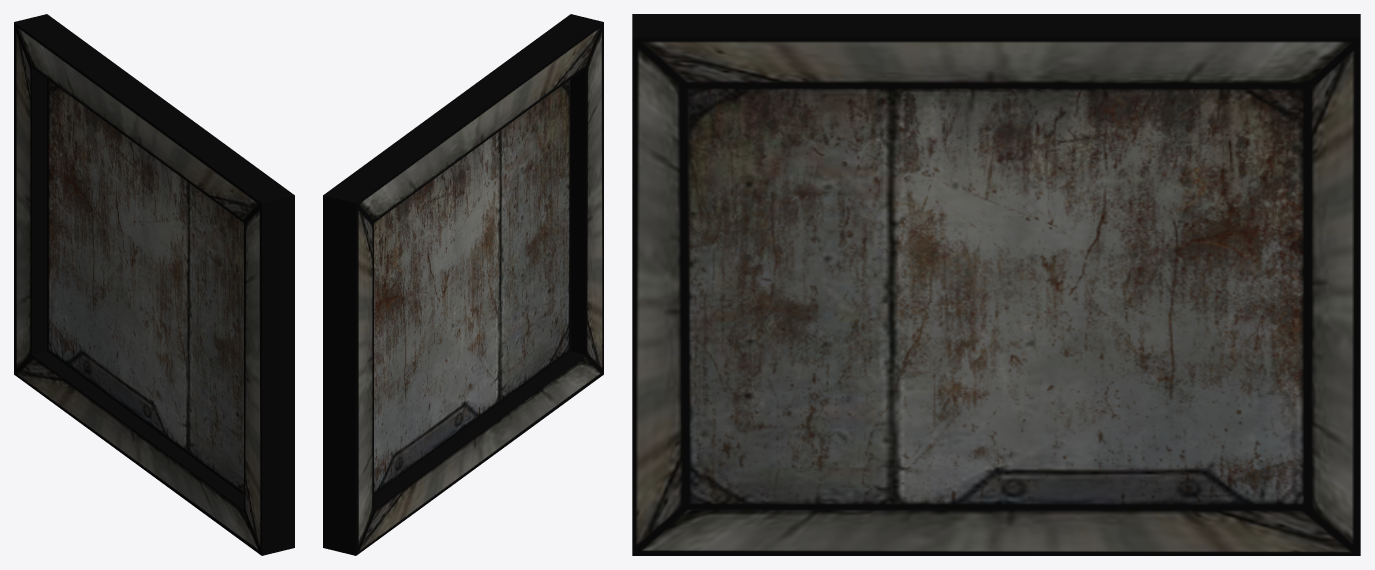
The model's file is omlaag.fbx.
3 views of the same model, side by side, from view 1: azimuth 30°, elevation 25°; view 2: azimuth 150°, elevation 25°; view 3: azimuth 270°, elevation 25° (orthographic). The views are drawn at different scales.
Parts seen in each view (by area): view 1: pCube6; view 2: pCube6; view 3: pCube6.
Part boxes in pixels (bbox=[...]): pCube6: bbox=[14, 14, 294, 555]; pCube6: bbox=[323, 14, 603, 555]; pCube6: bbox=[632, 14, 1360, 555].
Size of the model in its own units: 0.2512 by 2.56 by 3.26.
